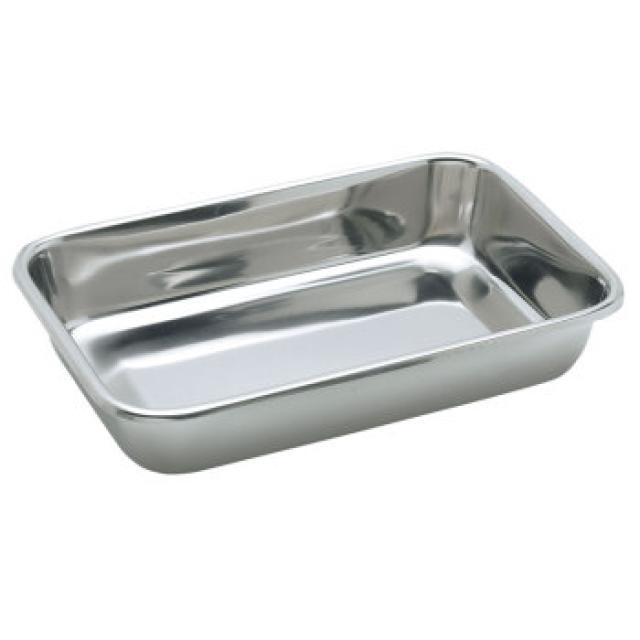Catheter Tray: (13, 148, 626, 482)
